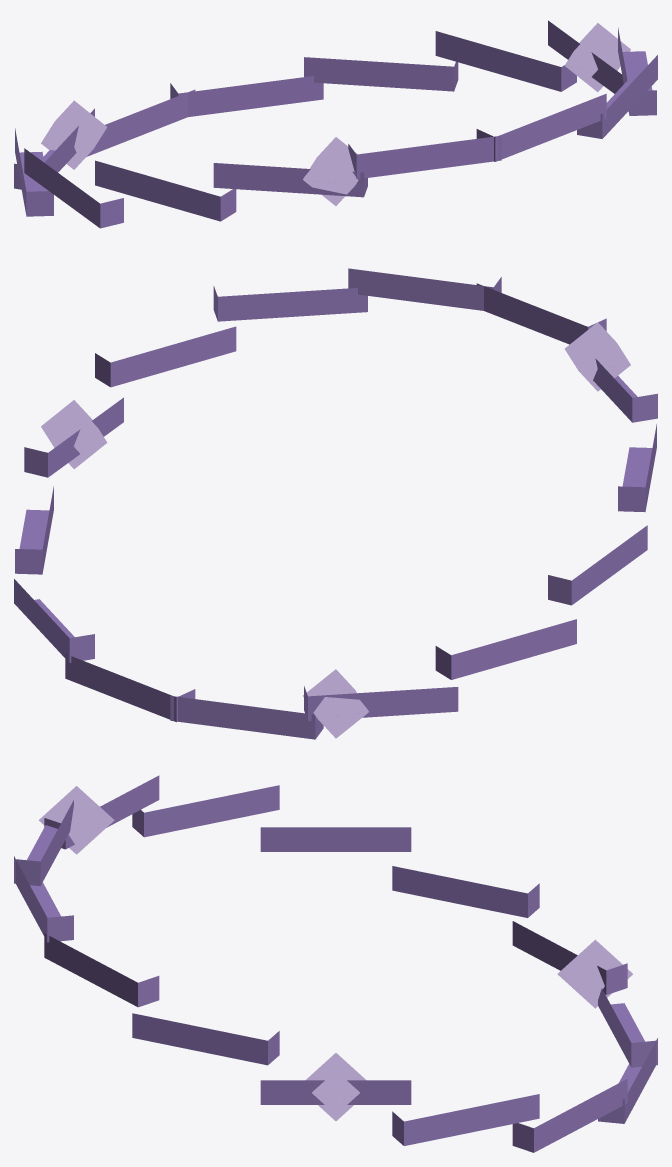
File: orbitring.glb
3 views of the same model, one above another, from view 1: azimuth 30°, elevation 25°; view 2: azimuth 150°, elevation 25°; view 3: azimuth 270°, elevation 25° (orthographic).
Size of the model in its own units: 1.2 by 0.4518 by 1.18.
